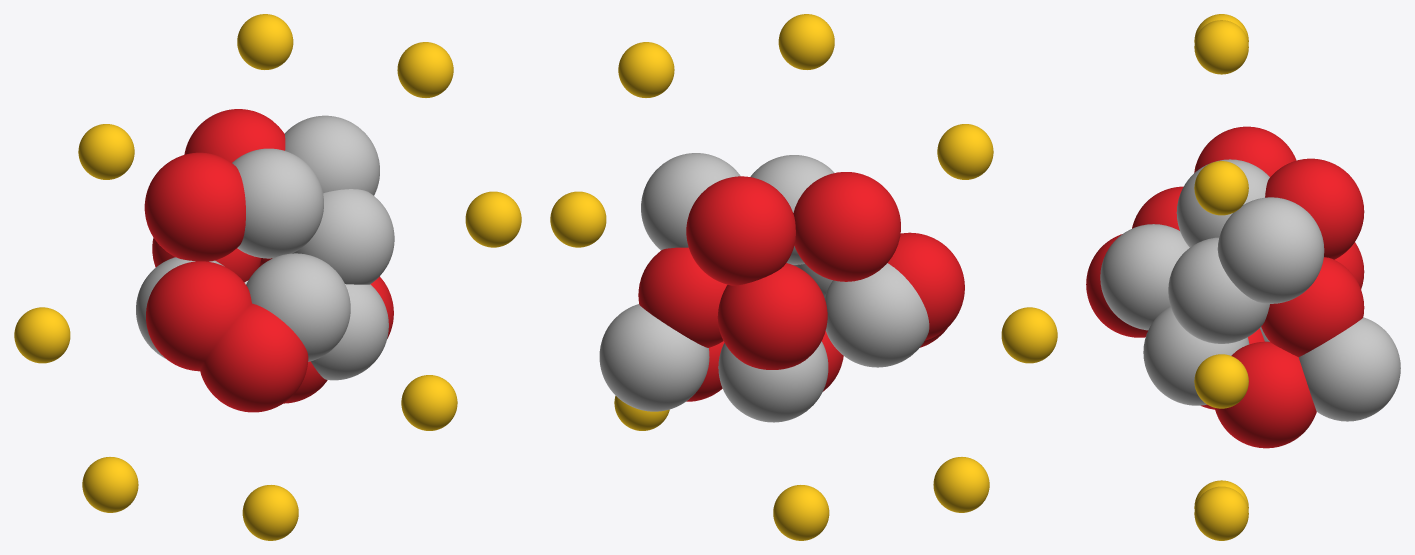
3 views of the same model, side by side, from view 1: azimuth 30°, elevation 25°; view 2: azimuth 150°, elevation 25°; view 3: azimuth 270°, elevation 25° (orthographic). The views are drawn at different scales.
Visible parts, largest first — view 1: mesh_id108, mesh_id125, mesh_id119, mesh_id147, mesh_id146, mesh_id139, mesh_id145, mesh_id153, mesh_id120, mesh_id82, mesh_id172, mesh_id196 (+8 smaller); view 2: mesh_id108, mesh_id120, mesh_id67, mesh_id166, mesh_id159, mesh_id109, mesh_id160, mesh_id145, mesh_id119, mesh_id172, mesh_id82, mesh_id196 (+8 smaller); view 3: mesh_id145, mesh_id166, mesh_id127, mesh_id139, mesh_id146, mesh_id109, mesh_id120, mesh_id153, mesh_id108, mesh_id147, mesh_id180, mesh_id199 (+6 smaller).
Part boxes in pixels (x1,y1,x2,y2): mesh_id108: (144, 152, 245, 261); mesh_id125: (200, 303, 308, 412); mesh_id119: (146, 261, 251, 371); mesh_id147: (232, 148, 323, 258); mesh_id146: (246, 253, 350, 361); mesh_id139: (292, 189, 394, 284); mesh_id145: (284, 115, 379, 195); mesh_id153: (311, 284, 388, 380); mesh_id120: (184, 109, 285, 162); mesh_id82: (14, 307, 70, 363); mesh_id172: (465, 191, 521, 247); mesh_id196: (78, 124, 134, 179); mesh_id108: (793, 172, 900, 281); mesh_id120: (686, 176, 795, 285); mesh_id67: (717, 263, 827, 369); mesh_id166: (599, 304, 709, 411); mesh_id159: (824, 263, 929, 367); mesh_id109: (638, 247, 727, 347); mesh_id160: (718, 341, 828, 422); mesh_id145: (641, 153, 740, 250); mesh_id119: (888, 232, 964, 340); mesh_id172: (550, 191, 606, 247); mesh_id82: (1001, 307, 1057, 363); mesh_id196: (937, 124, 993, 179); mesh_id145: (1217, 197, 1324, 303); mesh_id166: (1299, 317, 1400, 421); mesh_id127: (1214, 341, 1316, 448); mesh_id139: (1168, 237, 1269, 343); mesh_id146: (1100, 224, 1189, 330); mesh_id109: (1261, 257, 1364, 357); mesh_id120: (1265, 158, 1364, 259); mesh_id153: (1143, 306, 1249, 405); mesh_id108: (1194, 126, 1296, 177); mesh_id147: (1176, 159, 1269, 247); mesh_id180: (1194, 20, 1248, 74); mesh_id199: (1194, 161, 1248, 215).
Bounding box in the file's own units: 0.1744 × 0.1744 × 0.0981.
Materials: 3 (3 with a texture image).
